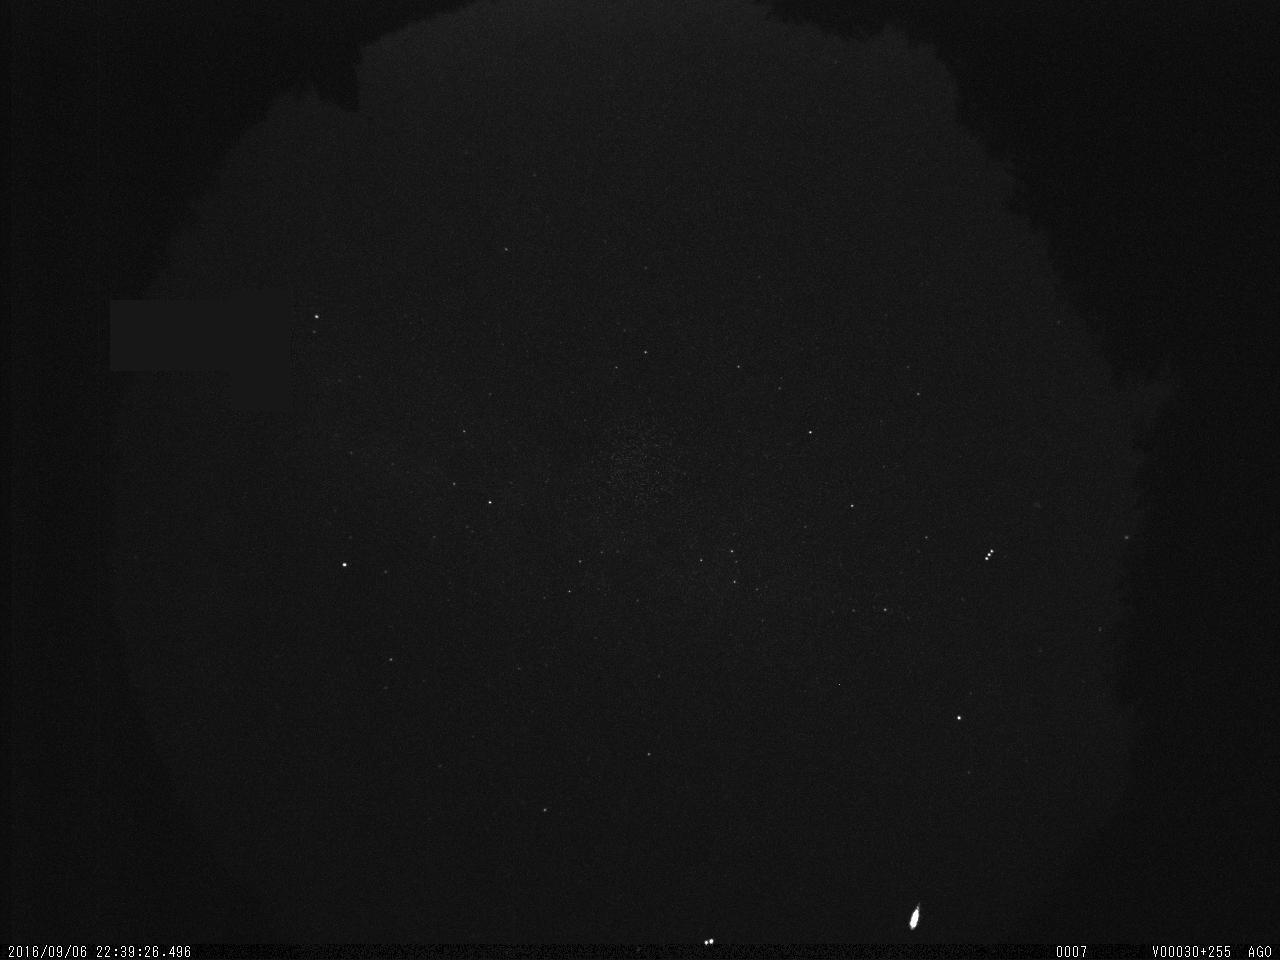meteor: (900, 895, 932, 940)
satelite: (980, 542, 1000, 569)
